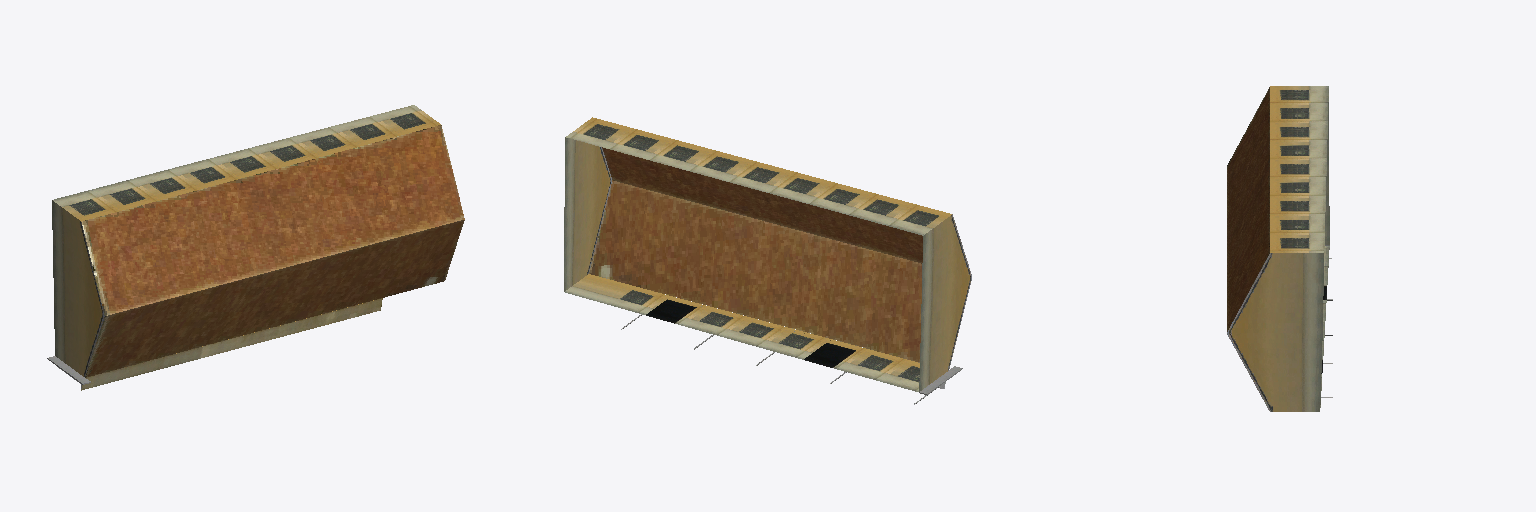
3 renders of one model, left to right at view 1: azimuth 30°, elevation 25°; view 2: azimuth 150°, elevation 25°; view 3: azimuth 270°, elevation 25°, orthographic.
Visible parts, largest first — view 1: Group_MatrixTransform_i96014_Geometry_5, Group_MatrixTransform_i96014_Geometry_6, Group_MatrixTransform_i96014_Geometry_2, Group_MatrixTransform_i96014_Geometry_4; view 2: Group_MatrixTransform_i96014_Geometry_5, Group_MatrixTransform_i96014_Geometry_6, Group_MatrixTransform_i96014_Geometry_2, Group_MatrixTransform_i96014_Geometry_3, Group_MatrixTransform_i96014_Geometry_0; view 3: Group_MatrixTransform_i96014_Geometry_2, Group_MatrixTransform_i96014_Geometry_6, Group_MatrixTransform_i96014_Geometry_5.
Boxes of the visible parts, x1,y1,x2,y2 form: Group_MatrixTransform_i96014_Geometry_5: [82, 125, 464, 377]; Group_MatrixTransform_i96014_Geometry_6: [53, 105, 440, 339]; Group_MatrixTransform_i96014_Geometry_2: [52, 200, 104, 376]; Group_MatrixTransform_i96014_Geometry_4: [81, 298, 382, 390]; Group_MatrixTransform_i96014_Geometry_5: [589, 147, 922, 362]; Group_MatrixTransform_i96014_Geometry_6: [566, 117, 951, 391]; Group_MatrixTransform_i96014_Geometry_2: [564, 137, 971, 391]; Group_MatrixTransform_i96014_Geometry_3: [643, 296, 868, 369]; Group_MatrixTransform_i96014_Geometry_0: [565, 274, 628, 302]; Group_MatrixTransform_i96014_Geometry_2: [1227, 103, 1329, 411]; Group_MatrixTransform_i96014_Geometry_6: [1270, 86, 1329, 390]; Group_MatrixTransform_i96014_Geometry_5: [1227, 87, 1269, 331].
Size of the model in its own units: 31.07 by 14.68 by 7.81.
Materials: 9 (9 with a texture image).